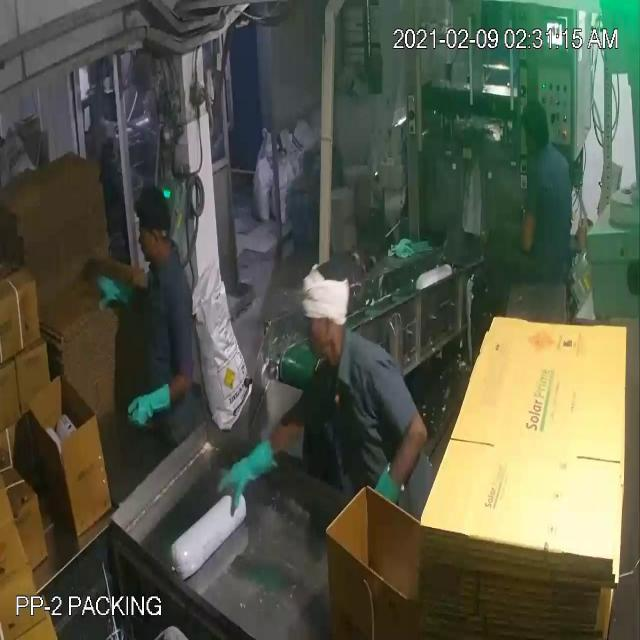Gloves: (65, 65, 249, 476)
